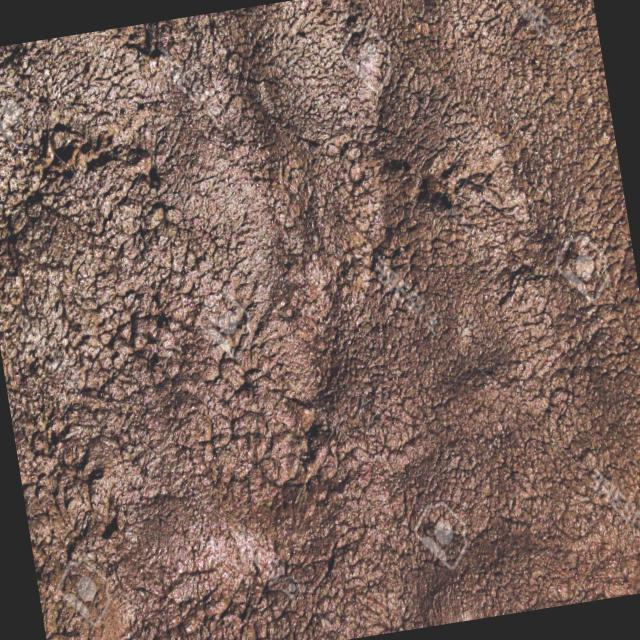suelo_humedo: (49, 64, 598, 559)
